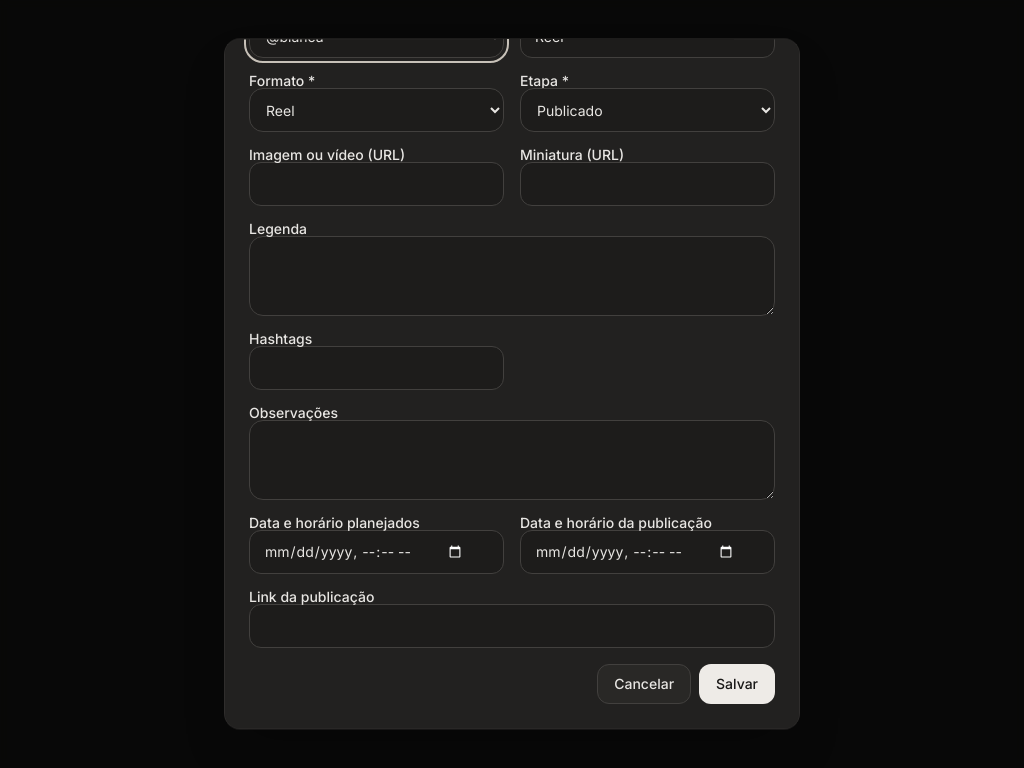
Test: Instagram editor workflows › requires the actual publication date before recording publication
(page scrolled)
Step 1. Click the button "Salvar" → coordinates (737, 684), box [699,664,775,704]
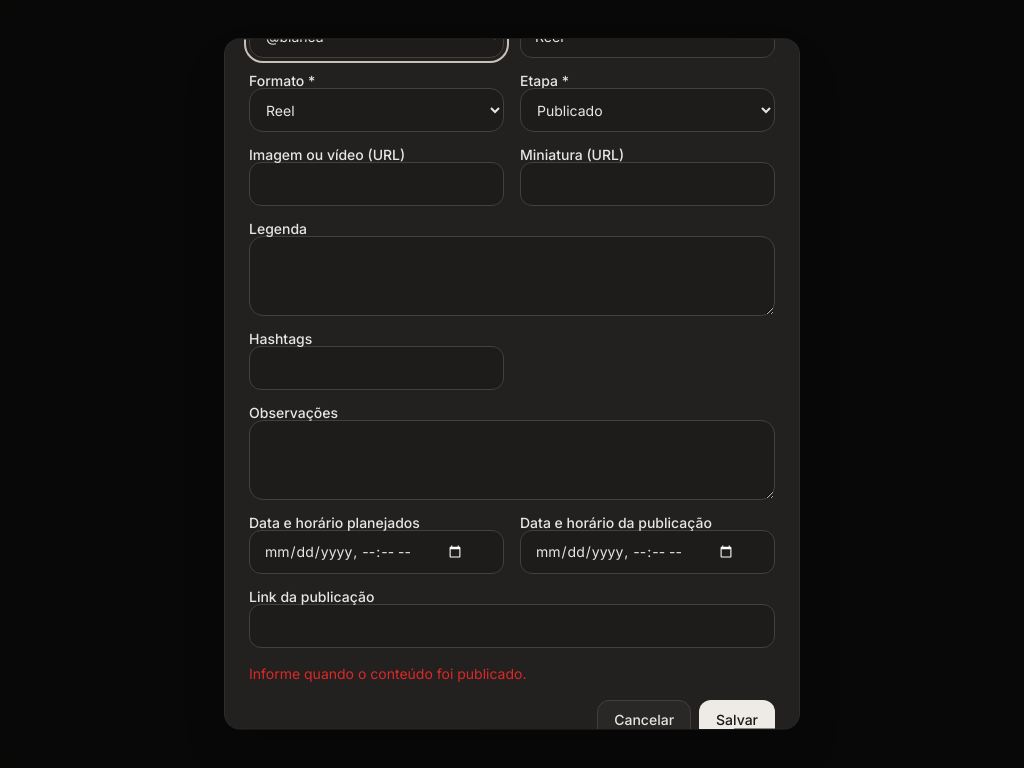
Now the message shows "Informe quando", box [249,665,526,682]
